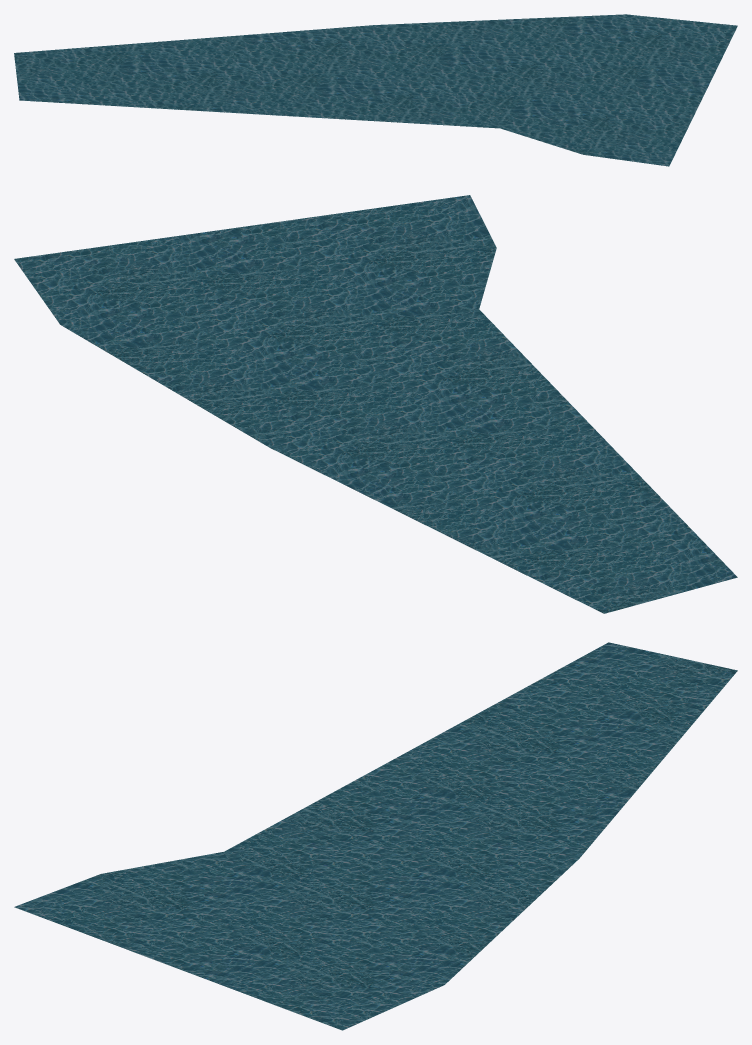
The model's file is sea_tiny.glb.
The picture shows the model from 3 angles, top to bottom: view 1: azimuth 30°, elevation 25°; view 2: azimuth 150°, elevation 25°; view 3: azimuth 270°, elevation 25°; orthographic projection. The views are drawn at different scales.
Parts seen in each view (by area): view 1: Extrude; view 2: Extrude; view 3: Extrude.
Part boxes in pixels (box(x1,y1,x2,y2)): Extrude: box(14, 14, 737, 166); Extrude: box(14, 195, 737, 613); Extrude: box(14, 642, 737, 1030).
Size of the model in its own units: 258 by 0.03 by 204.
1 material, 1 textured.
